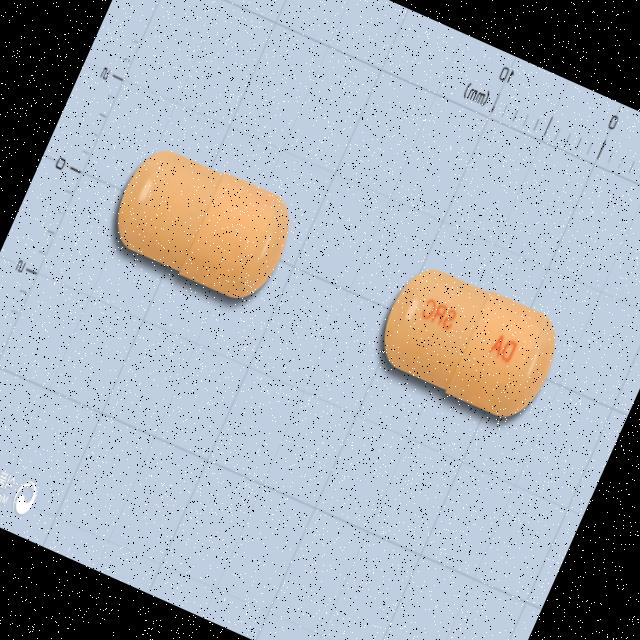Suprax Cap- Dong-A: (367, 254, 572, 430), (100, 137, 304, 310)
